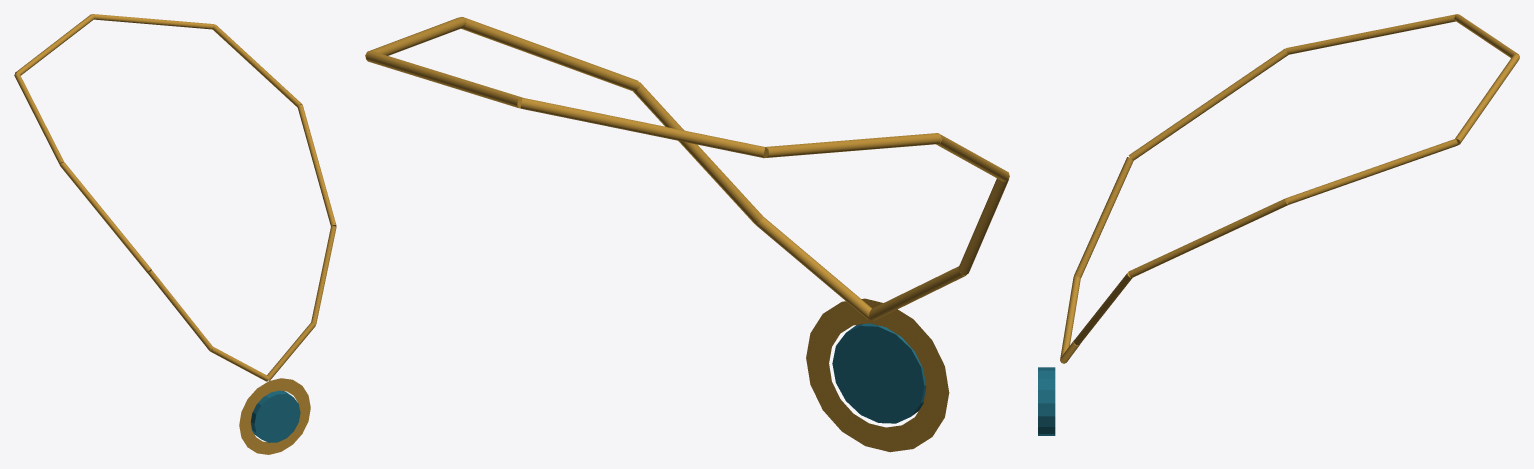
The model's file is reference_pendant_necklace.gltf.
The picture shows the model from 3 angles, left to right: view 1: azimuth 30°, elevation 25°; view 2: azimuth 150°, elevation 25°; view 3: azimuth 270°, elevation 25°; orthographic projection. The views are drawn at different scales.
Parts seen in each view (by area): view 1: Pendant Necklace; view 2: Pendant Necklace; view 3: Pendant Necklace.
Part boxes in pixels (x1=…): Pendant Necklace: x1=14, y1=14, x2=336, y2=454; Pendant Necklace: x1=365, y1=17, x2=1009, y2=452; Pendant Necklace: x1=1038, y1=14, x2=1519, y2=435.
Bounding box in the file's own units: 0.1899 × 0.2286 × 0.2524.
Materials: 2 (2 with a texture image).
